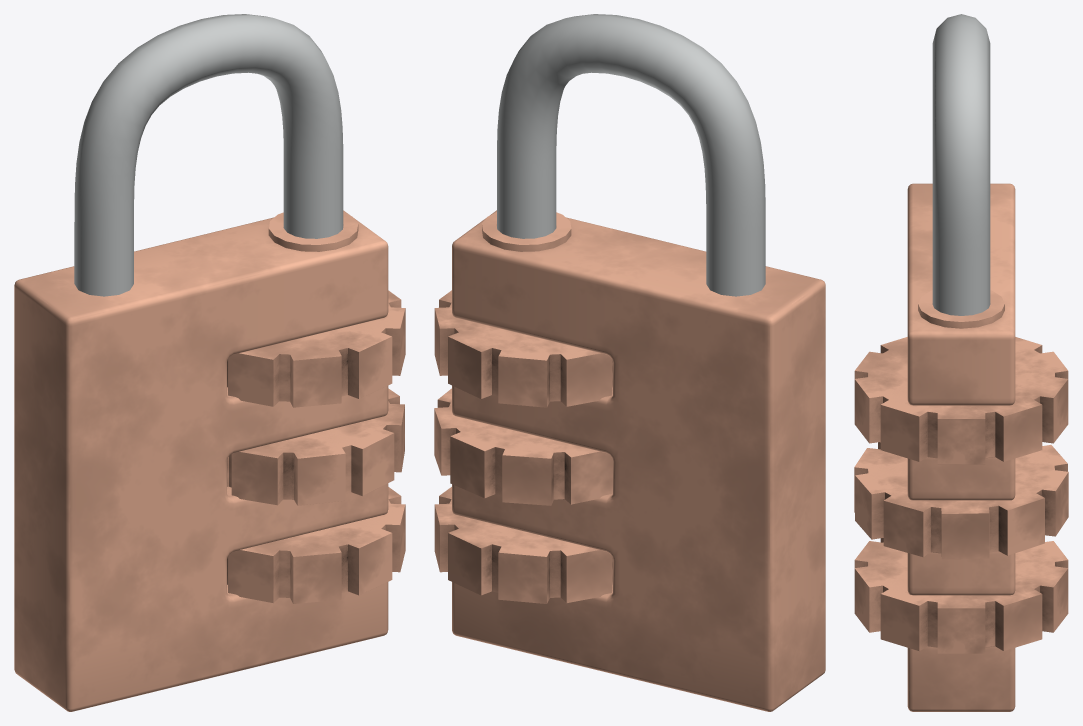
Rendered from Lock.fbx.
3 renders of one model, left to right at view 1: azimuth 30°, elevation 25°; view 2: azimuth 150°, elevation 25°; view 3: azimuth 270°, elevation 25°, orthographic. The views are drawn at different scales.
Parts seen in each view (by area): view 1: Cylinder, Vert.001, Cylinder.001, Cylinder.003, Cylinder.002; view 2: Cylinder, Vert.001, Cylinder.001, Cylinder.002, Cylinder.003; view 3: Cylinder, Vert.001, Cylinder.001, Cylinder.002, Cylinder.003.
Boxes of the visible parts, x1,y1,x2,y2 form: Cylinder: [14, 210, 388, 711]; Vert.001: [74, 14, 343, 296]; Cylinder.001: [227, 290, 405, 407]; Cylinder.003: [227, 487, 405, 603]; Cylinder.002: [227, 388, 404, 505]; Cylinder: [452, 210, 825, 711]; Vert.001: [497, 14, 765, 296]; Cylinder.001: [434, 290, 612, 407]; Cylinder.002: [434, 388, 612, 505]; Cylinder.003: [434, 487, 612, 603]; Cylinder: [907, 183, 1015, 711]; Vert.001: [932, 14, 990, 315]; Cylinder.001: [854, 337, 1068, 464]; Cylinder.002: [854, 442, 1068, 559]; Cylinder.003: [854, 538, 1068, 653].
Bounding box in the file's own units: 217 × 375 × 120.
2 materials, 2 textured.
